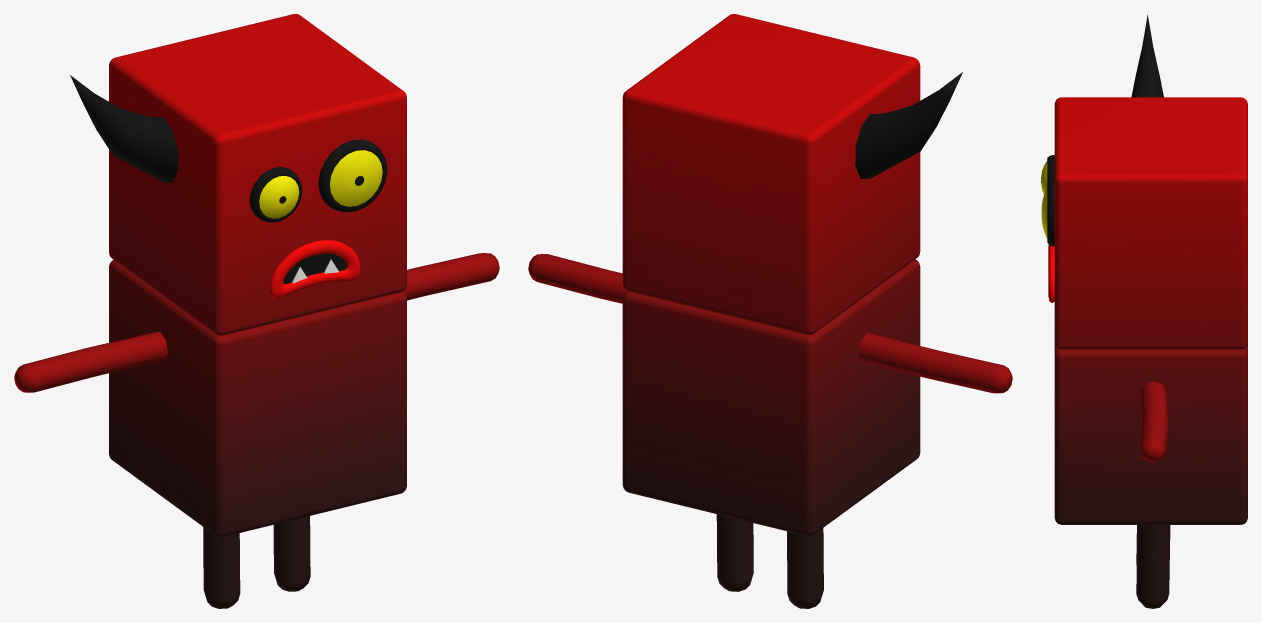
Rendered from mons2.fbx.
3 views of the same model, side by side, from view 1: azimuth 30°, elevation 25°; view 2: azimuth 150°, elevation 25°; view 3: azimuth 270°, elevation 25° (orthographic). The views are drawn at different scales.
Visible parts, largest first — view 1: mons2; view 2: mons2; view 3: mons2.
Boxes of the visible parts, left/top/right/bottom form: mons2: left=14, top=14, right=499, bottom=608; mons2: left=528, top=14, right=1012, bottom=608; mons2: left=1041, top=15, right=1247, bottom=608.
Bounding box in the file's own units: 249 × 284 × 107.
Materials: 1 (1 with a texture image).
